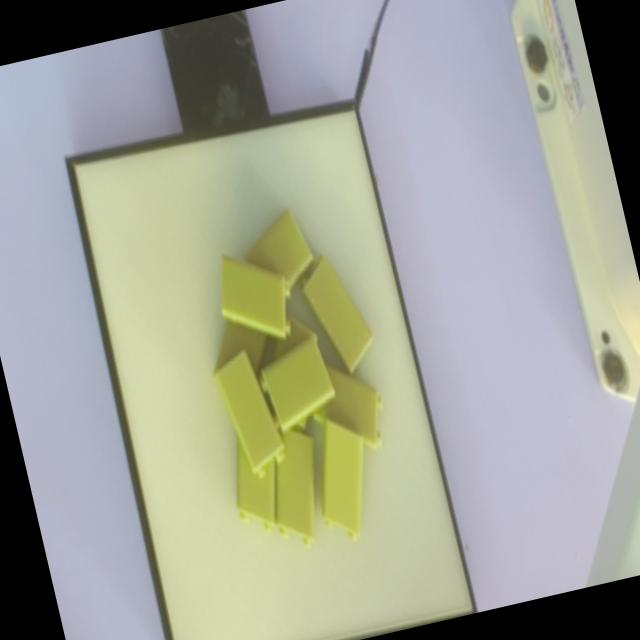bateria: (212, 347, 284, 478), (302, 253, 373, 373), (259, 334, 335, 431), (220, 252, 291, 341), (322, 416, 363, 538)
mesa: (65, 97, 477, 640)
